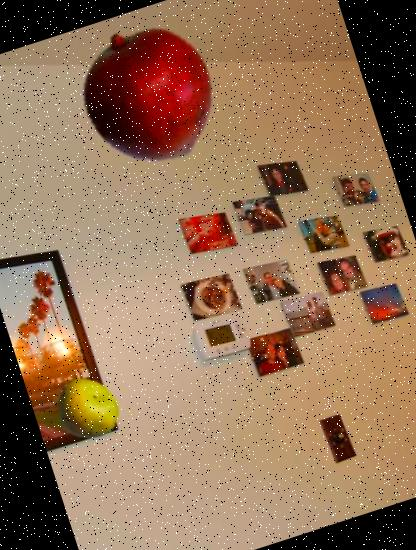Mango: (60, 4, 241, 186)
Pomelo: (46, 368, 128, 450)
